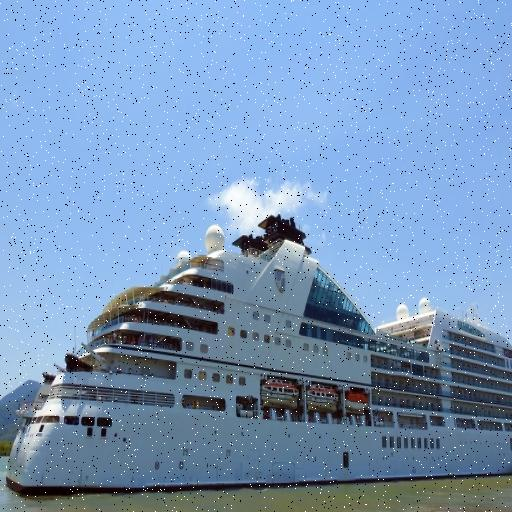cruises: (2, 208, 512, 512)
